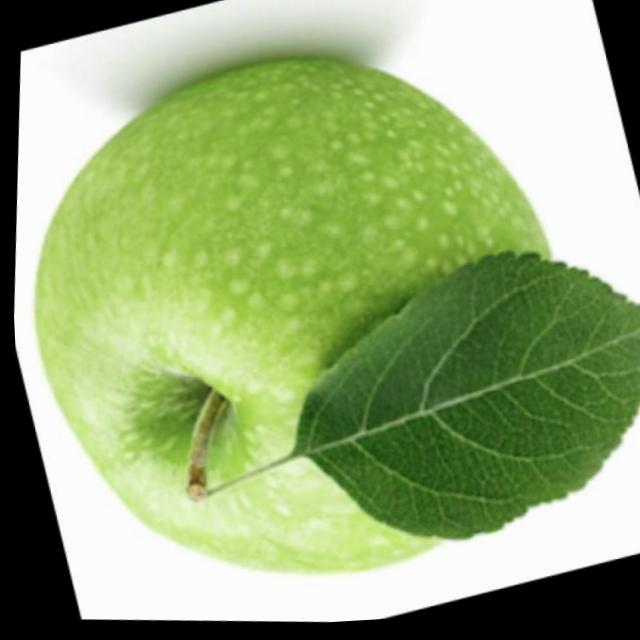Apple: (3, 25, 582, 608)
